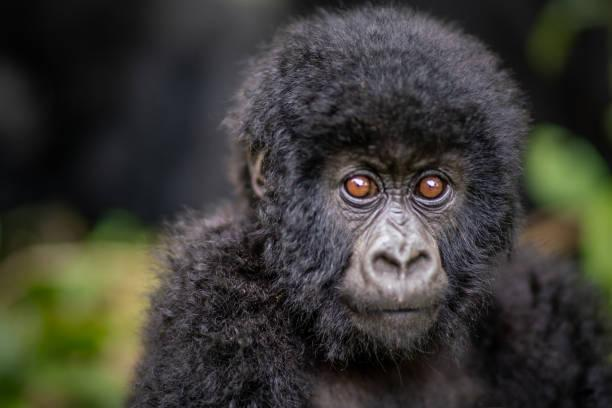goriile_montagne: (152, 7, 611, 408)
